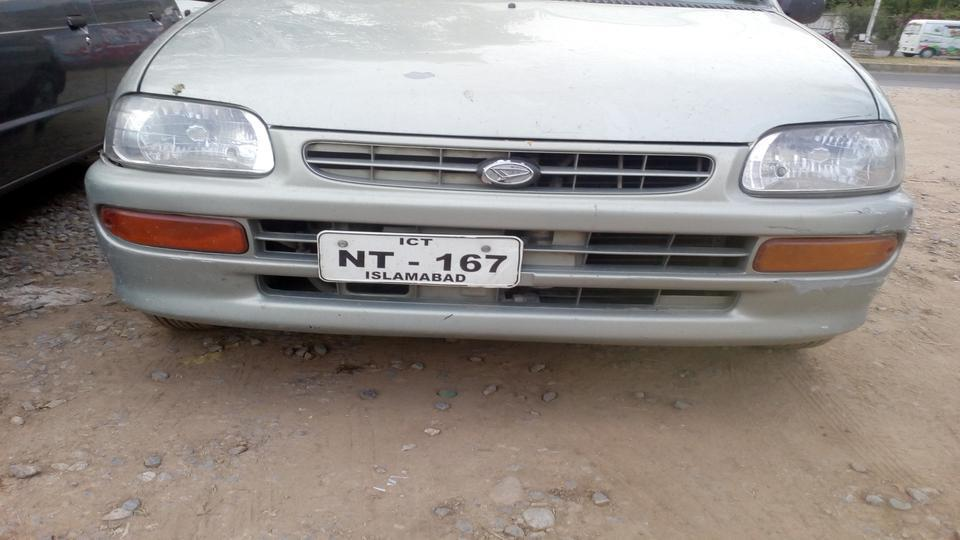NumberPlate: (316, 231, 522, 291)
